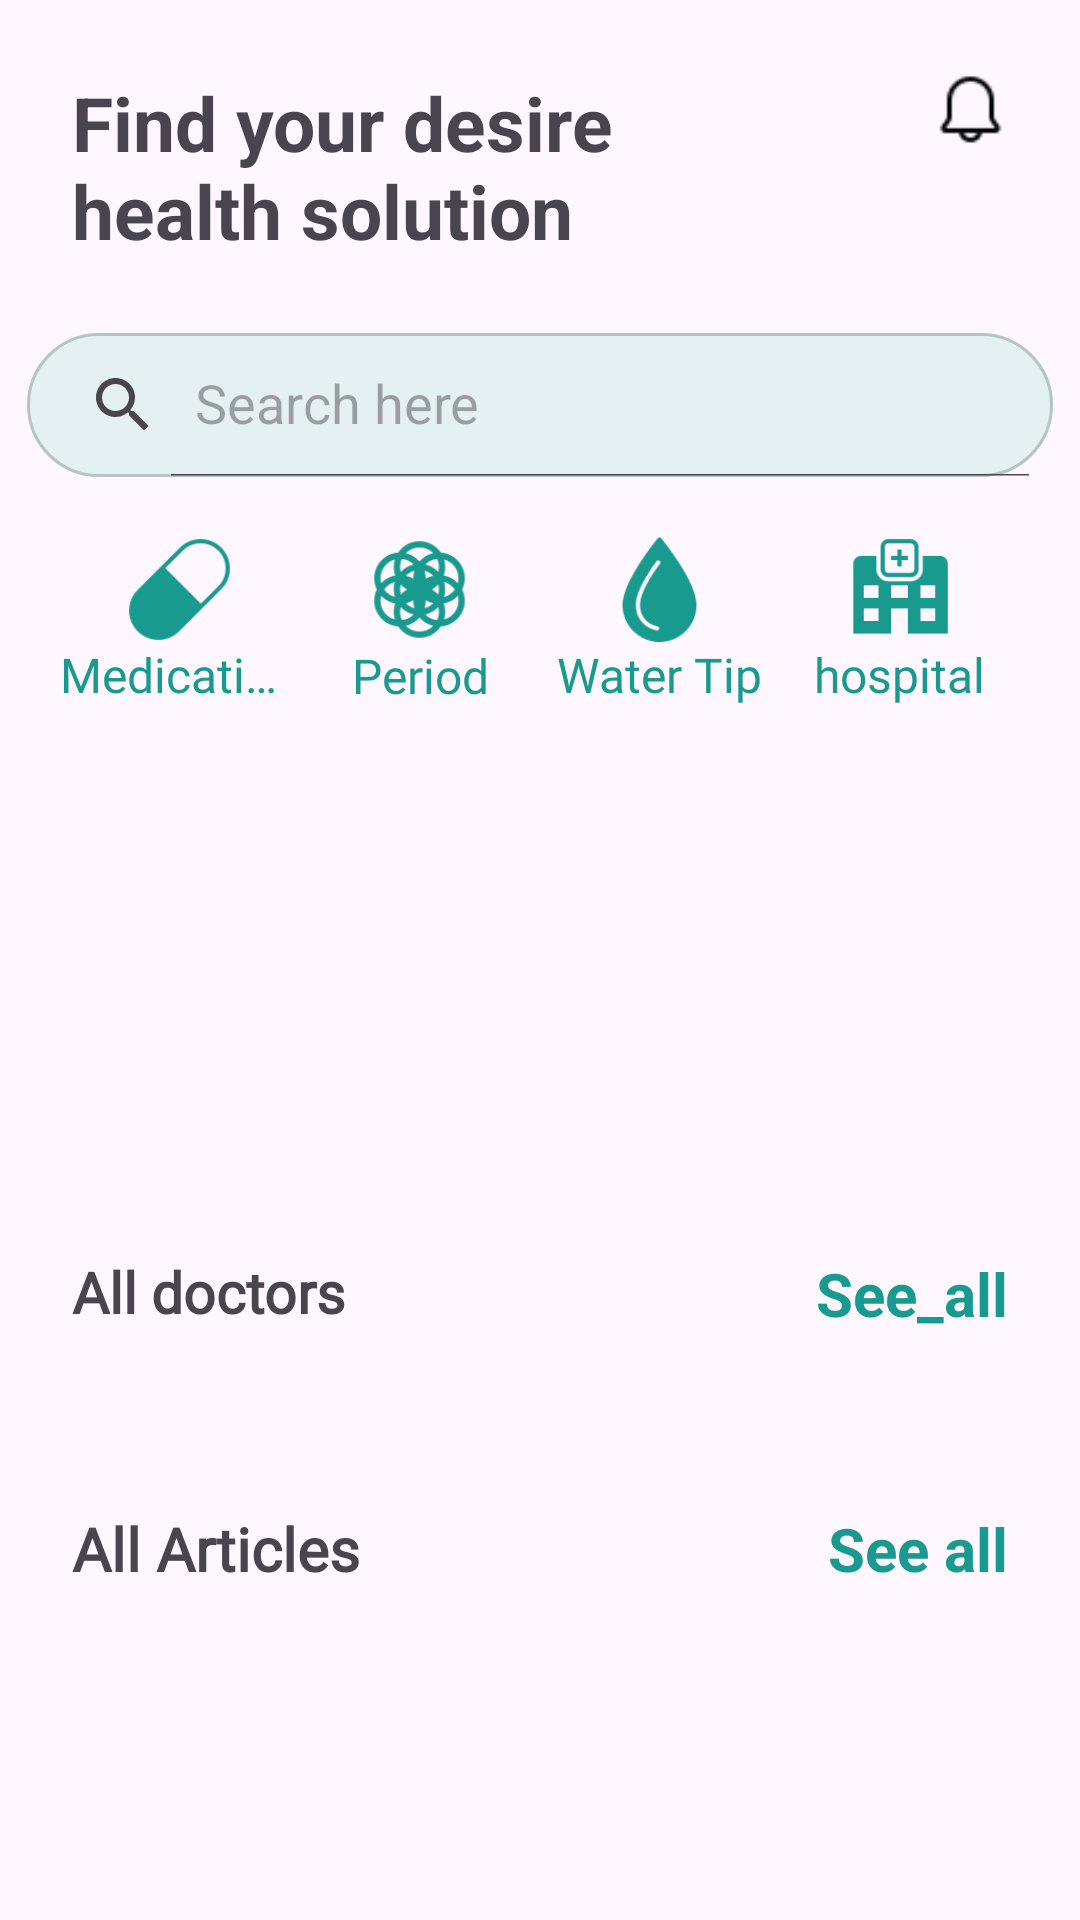

Named icons in this screenshot (1080px×1920px) and their centers, point (x, y):
notifications: point (970, 109)
pill: point (179, 589)
